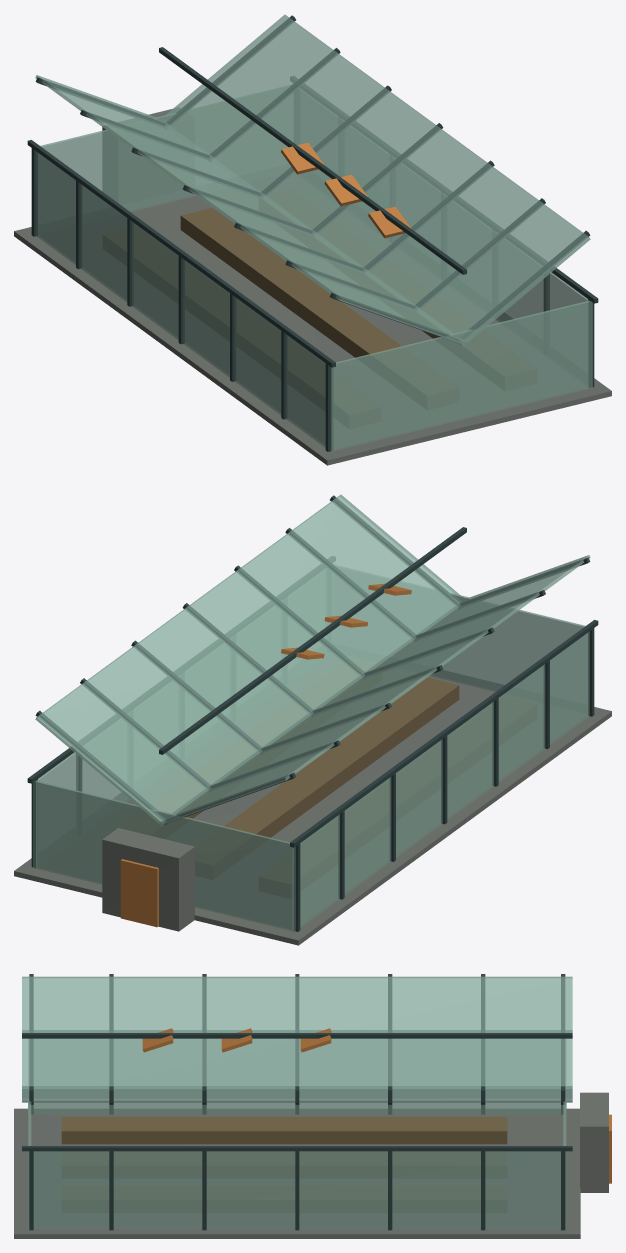
Rendered from massive-greenhouse.source.glb.
3 views of the same model, one above another, from view 1: azimuth 30°, elevation 25°; view 2: azimuth 150°, elevation 25°; view 3: azimuth 270°, elevation 25° (orthographic). The views are drawn at different scales.
Parts seen in each view (by area): view 1: massive-greenhouse-roof-east-glass-mesh, massive-greenhouse-foundation-slab-mesh, massive-greenhouse-west-glass-wall-mesh, massive-greenhouse-rear-glass-wall-mesh, massive-greenhouse-roof-west-glass-mesh, massive-greenhouse-bed-0-mesh, massive-greenhouse-bed--3.5-mesh, massive-greenhouse-bed-3.5-mesh, massive-greenhouse-front-glass-wall-mesh, massive-greenhouse-vestibule-shell-mesh, massive-greenhouse-longitudinal-rail--5.9-mesh, massive-greenhouse-longitudinal-rail-0-mesh (+24 smaller); view 2: massive-greenhouse-roof-east-glass-mesh, massive-greenhouse-foundation-slab-mesh, massive-greenhouse-west-glass-wall-mesh, massive-greenhouse-front-glass-wall-mesh, massive-greenhouse-roof-west-glass-mesh, massive-greenhouse-bed-0-mesh, massive-greenhouse-bed--3.5-mesh, massive-greenhouse-bed-3.5-mesh, massive-greenhouse-rear-glass-wall-mesh, massive-greenhouse-vestibule-shell-mesh, massive-greenhouse-longitudinal-rail--5.9-mesh, massive-greenhouse-longitudinal-rail-0-mesh (+22 smaller); view 3: massive-greenhouse-roof-west-glass-mesh, massive-greenhouse-east-glass-wall-mesh, massive-greenhouse-foundation-slab-mesh, massive-greenhouse-bed--3.5-mesh, massive-greenhouse-bed-3.5-mesh, massive-greenhouse-bed-0-mesh, massive-greenhouse-roof-east-glass-mesh, massive-greenhouse-west-glass-wall-mesh, massive-greenhouse-longitudinal-rail-5.9-mesh, massive-greenhouse-longitudinal-rail-0-mesh, massive-greenhouse-vestibule-shell-mesh, massive-greenhouse-longitudinal-rail--5.9-mesh (+17 smaller).
Part boxes in pixels (x1,y1,x2,y2): massive-greenhouse-roof-east-glass-mesh: [164, 14, 590, 345]; massive-greenhouse-foundation-slab-mesh: [14, 173, 611, 465]; massive-greenhouse-west-glass-wall-mesh: [36, 151, 333, 451]; massive-greenhouse-rear-glass-wall-mesh: [332, 301, 589, 450]; massive-greenhouse-roof-west-glass-mesh: [35, 75, 467, 345]; massive-greenhouse-bed-0-mesh: [180, 208, 458, 409]; massive-greenhouse-bed--3.5-mesh: [103, 227, 380, 428]; massive-greenhouse-bed-3.5-mesh: [259, 189, 536, 390]; massive-greenhouse-front-glass-wall-mesh: [40, 113, 196, 211]; massive-greenhouse-vestibule-shell-mesh: [102, 108, 182, 204]; massive-greenhouse-longitudinal-rail--5.9-mesh: [27, 140, 335, 367]; massive-greenhouse-longitudinal-rail-0-mesh: [159, 47, 466, 274]; massive-greenhouse-roof-east-glass-mesh: [35, 494, 461, 825]; massive-greenhouse-foundation-slab-mesh: [14, 653, 611, 945]; massive-greenhouse-west-glass-wall-mesh: [292, 631, 589, 931]; massive-greenhouse-front-glass-wall-mesh: [36, 781, 293, 930]; massive-greenhouse-roof-west-glass-mesh: [159, 555, 590, 825]; massive-greenhouse-bed-0-mesh: [195, 677, 459, 879]; massive-greenhouse-bed--3.5-mesh: [259, 697, 536, 898]; massive-greenhouse-bed-3.5-mesh: [119, 659, 380, 838]; massive-greenhouse-rear-glass-wall-mesh: [429, 593, 585, 691]; massive-greenhouse-vestibule-shell-mesh: [102, 828, 194, 931]; massive-greenhouse-longitudinal-rail--5.9-mesh: [290, 620, 598, 847]; massive-greenhouse-longitudinal-rail-0-mesh: [159, 527, 466, 754]; massive-greenhouse-roof-west-glass-mesh: [22, 976, 572, 1102]; massive-greenhouse-east-glass-wall-mesh: [28, 1151, 566, 1229]; massive-greenhouse-foundation-slab-mesh: [14, 1108, 580, 1238]; massive-greenhouse-bed--3.5-mesh: [61, 1117, 507, 1144]; massive-greenhouse-bed-3.5-mesh: [62, 1186, 506, 1212]; massive-greenhouse-bed-0-mesh: [62, 1152, 506, 1177]; massive-greenhouse-roof-east-glass-mesh: [22, 1086, 572, 1101]; massive-greenhouse-west-glass-wall-mesh: [28, 1102, 566, 1114]; massive-greenhouse-longitudinal-rail-5.9-mesh: [22, 1146, 572, 1151]; massive-greenhouse-longitudinal-rail-0-mesh: [22, 1033, 572, 1038]; massive-greenhouse-vestibule-shell-mesh: [580, 1092, 608, 1192]; massive-greenhouse-longitudinal-rail--5.9-mesh: [22, 1030, 571, 1032].
Size of the model in its own units: 12.8 by 6.94 by 25.75.
